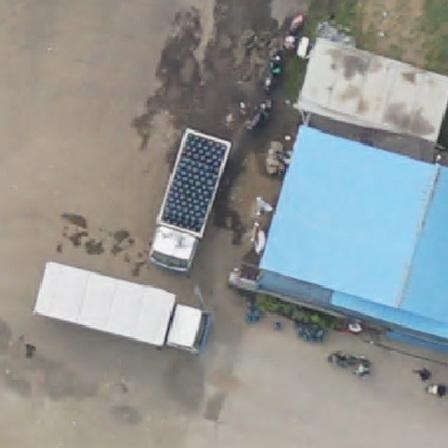Motorcycle: (322, 344, 369, 376), (244, 97, 273, 133), (260, 51, 284, 91)
